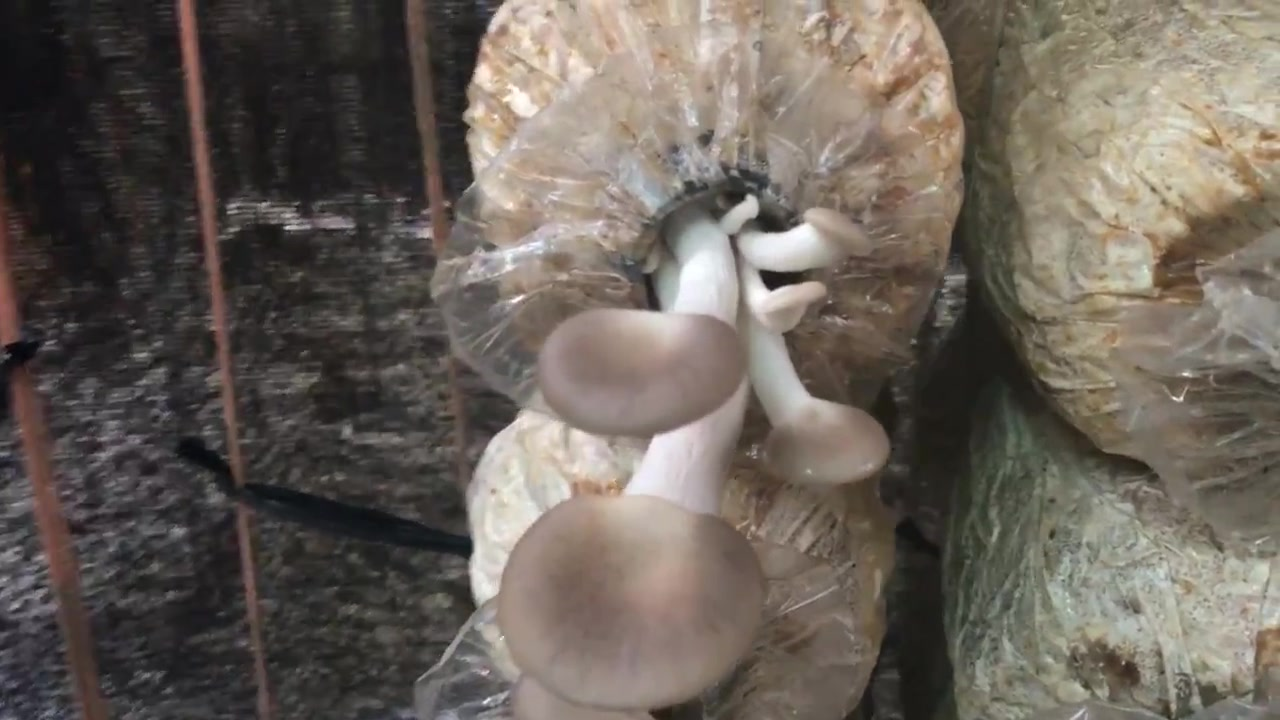nam: (496, 143, 893, 720)
